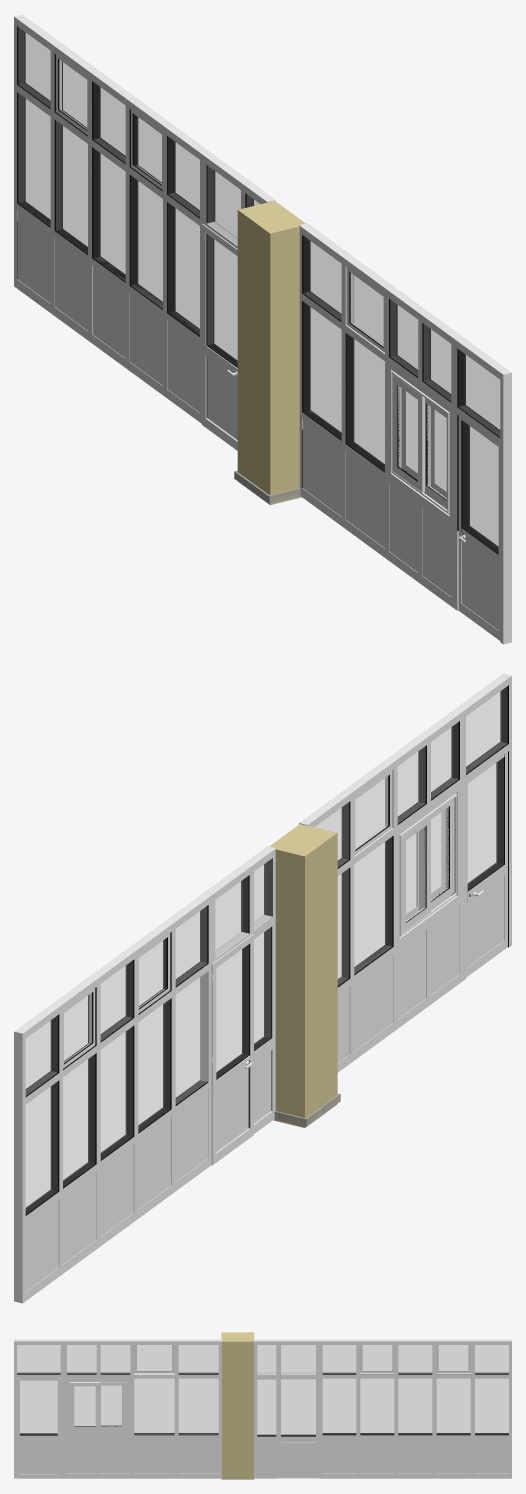
Rendered from paretefinestratafondo.gltf.
3 renders of one model, top to bottom at view 1: azimuth 30°, elevation 25°; view 2: azimuth 150°, elevation 25°; view 3: azimuth 270°, elevation 25°, orthographic. The views are drawn at different scales.
Visible parts, largest first — view 1: Infissi Finestrati SX Struttura, Infissi Finestrati Dx Struttura, Porta Parete, Porta Corridoio, Porta Infissi Finestrati Sx, Vetro Alta 1 Infissi Finestrati Dx, Vetro Alta 2 Infissi Finestrati Dx, Vetro Basso 3 Infissi Finestrati Sx, Vetro Basso 1 Infissi Finestrati Sx, Vetro Basso 4 Infissi Finestrati Sx, Vetro Basso 2 Infissi Finestrati Sx, Vetro Basso 5 Infissi Finestrati Sx (+14 smaller); view 2: Infissi Finestrati SX Struttura, Infissi Finestrati Dx Struttura, Porta Parete, Porta Corridoio, Porta Infissi Finestrati Sx, Vetro Alta 2 Infissi Finestrati Dx, Vetro Basso Porta Infissi Finestrati Sx, Vetro Basso 4 Infissi Finestrati Sx, Vetro Basso 3 Infissi Finestrati Sx, Vetro Basso 1 Infissi Finestrati Sx, Vetro Basso 2 Infissi Finestrati Sx, Vetro Basso 5 Infissi Finestrati Sx (+16 smaller); view 3: Infissi Finestrati SX Struttura, Infissi Finestrati Dx Struttura, Porta Parete, Porta Corridoio, Porta Infissi Finestrati Sx, Vetro Alta 2 Infissi Finestrati Dx, Vetro Alta 1 Infissi Finestrati Dx, Vetro Basso Porta Infissi Finestrati Sx, Vetro Basso 4 Infissi Finestrati Sx, Vetro Basso 3 Infissi Finestrati Sx, Vetro Basso 2 Infissi Finestrati Sx, Vetro Basso 1 Infissi Finestrati Sx (+16 smaller).
Boxes of the visible parts, box(x1,y1,x2,y2) form: Infissi Finestrati SX Struttura: box(14, 14, 275, 423); Infissi Finestrati Dx Struttura: box(299, 223, 511, 644); Porta Parete: box(237, 201, 305, 505); Porta Corridoio: box(458, 416, 500, 640); Porta Infissi Finestrati Sx: box(201, 224, 237, 450); Vetro Alta 1 Infissi Finestrati Dx: box(303, 302, 341, 438); Vetro Alta 2 Infissi Finestrati Dx: box(347, 334, 384, 470); Vetro Basso 3 Infissi Finestrati Sx: box(93, 149, 125, 280); Vetro Basso 1 Infissi Finestrati Sx: box(18, 93, 50, 225); Vetro Basso 4 Infissi Finestrati Sx: box(131, 176, 162, 308); Vetro Basso 2 Infissi Finestrati Sx: box(56, 121, 87, 253); Vetro Basso 5 Infissi Finestrati Sx: box(168, 203, 199, 335); Infissi Finestrati SX Struttura: box(14, 846, 275, 1303); Infissi Finestrati Dx Struttura: box(299, 673, 511, 1072); Porta Parete: box(269, 824, 337, 1127); Porta Corridoio: box(466, 752, 507, 977); Porta Infissi Finestrati Sx: box(211, 934, 253, 1165); Vetro Alta 2 Infissi Finestrati Dx: box(354, 837, 391, 973); Vetro Basso Porta Infissi Finestrati Sx: box(216, 945, 248, 1077); Vetro Basso 4 Infissi Finestrati Sx: box(138, 1000, 169, 1131); Vetro Basso 3 Infissi Finestrati Sx: box(101, 1027, 132, 1158); Vetro Basso 1 Infissi Finestrati Sx: box(26, 1082, 57, 1213); Vetro Basso 2 Infissi Finestrati Sx: box(63, 1055, 94, 1186); Vetro Basso 5 Infissi Finestrati Sx: box(176, 972, 206, 1104); Infissi Finestrati SX Struttura: box(254, 1339, 511, 1478); Infissi Finestrati Dx Struttura: box(14, 1339, 221, 1478); Porta Parete: box(221, 1332, 254, 1479); Porta Corridoio: box(17, 1378, 60, 1478); Porta Infissi Finestrati Sx: box(277, 1376, 319, 1478); Vetro Alta 2 Infissi Finestrati Dx: box(134, 1379, 174, 1434); Vetro Alta 1 Infissi Finestrati Dx: box(179, 1379, 218, 1434); Vetro Basso Porta Infissi Finestrati Sx: box(281, 1379, 315, 1435); Vetro Basso 4 Infissi Finestrati Sx: box(360, 1379, 393, 1434); Vetro Basso 3 Infissi Finestrati Sx: box(398, 1379, 431, 1434); Vetro Basso 2 Infissi Finestrati Sx: box(437, 1379, 470, 1434); Vetro Basso 1 Infissi Finestrati Sx: box(475, 1379, 508, 1434).
Bounding box in the file's own units: 0.4981 × 3.01 × 9.8.
Materials: 7 (1 with a texture image).
